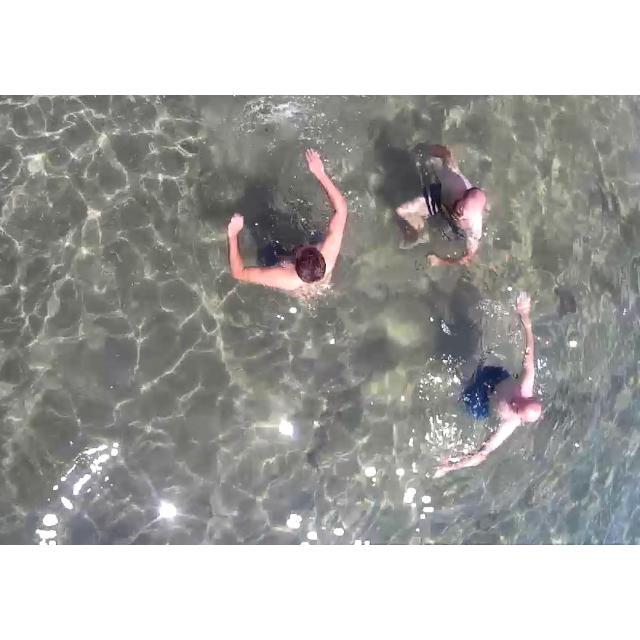human: (431, 268, 541, 495), (226, 129, 347, 305), (389, 130, 498, 271)
